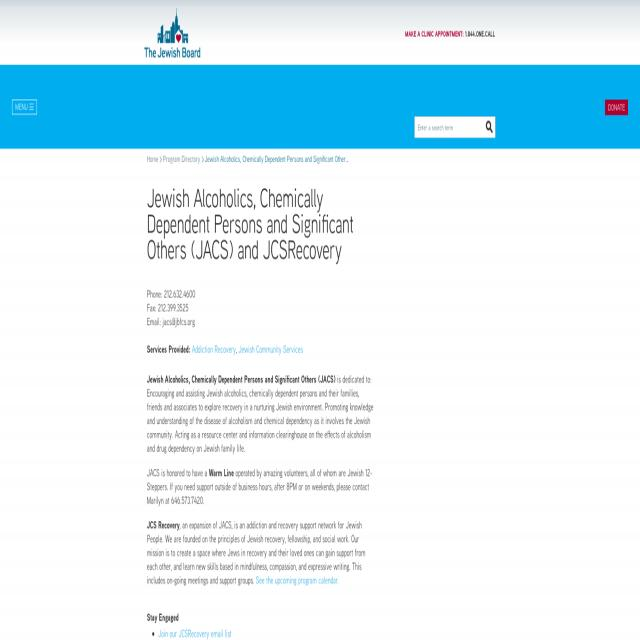button: (144, 5, 204, 60), (604, 99, 628, 115), (12, 99, 36, 115), (484, 117, 496, 138)
field: (414, 117, 496, 138)
